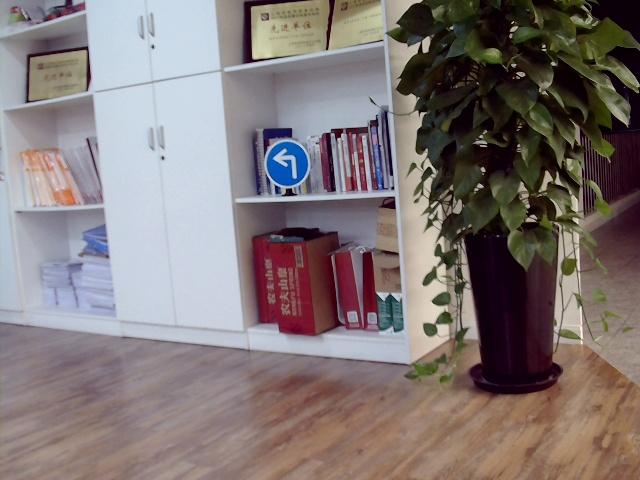turn_left: (272, 145, 302, 179)
